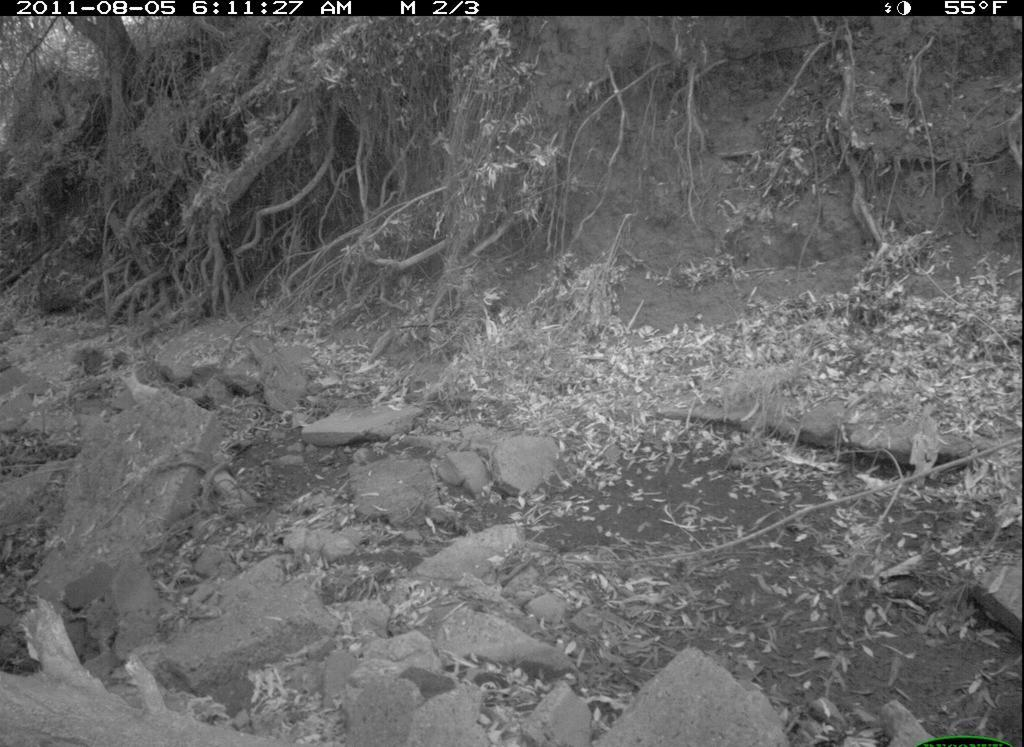cat: (116, 367, 166, 410)
